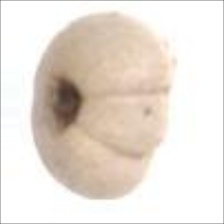L5: (81, 88, 179, 160), (30, 64, 85, 151)
L6: (28, 10, 179, 202)
